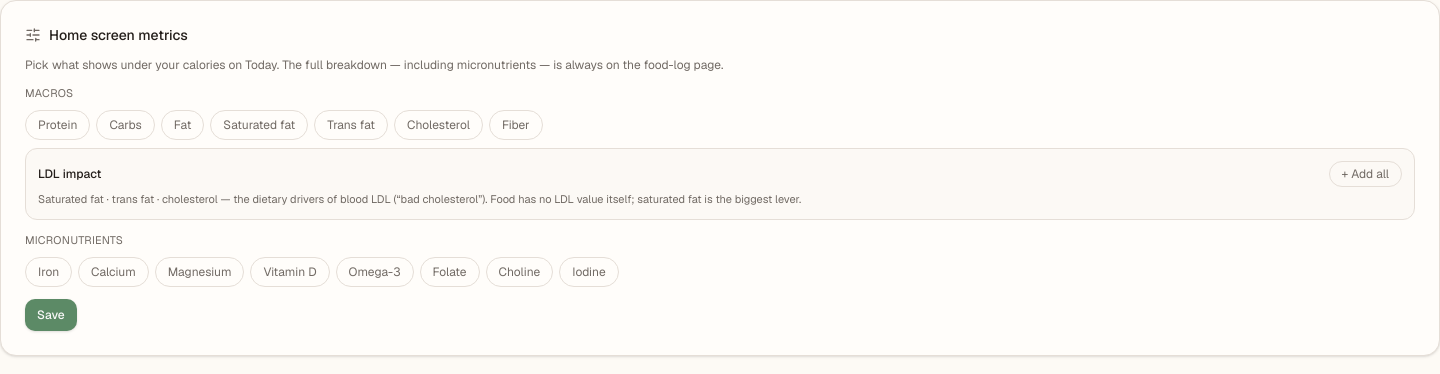
Test: MetricsCard — LDL impact group › one tap adds saturated fat, trans fat, and cholesterol together
The width and height of the screenshot is (1440, 374).
Click the button "+ Add all". click: x=1365, y=174
box: [1329, 160, 1402, 186]
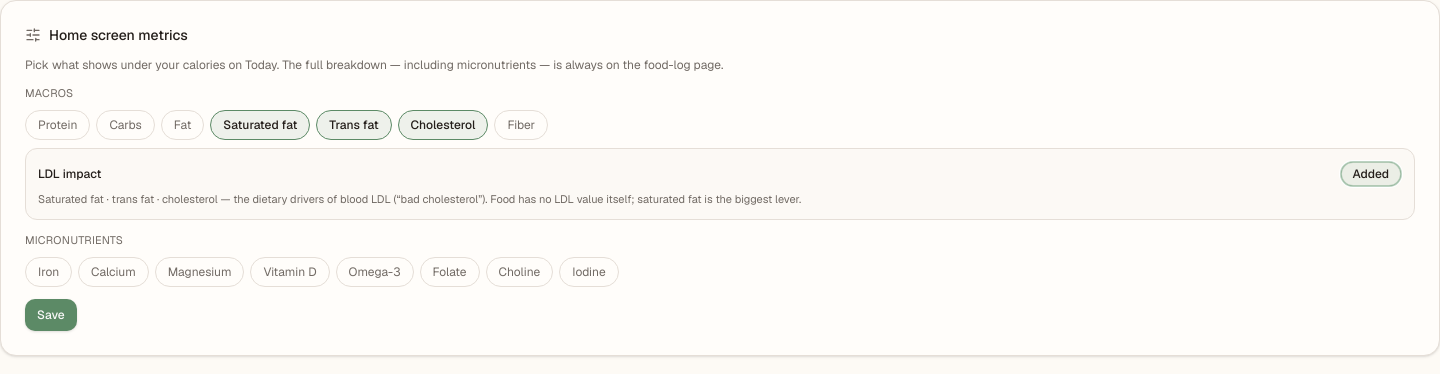
Expected: the button "Added" is shown, [1340, 160, 1402, 186]
